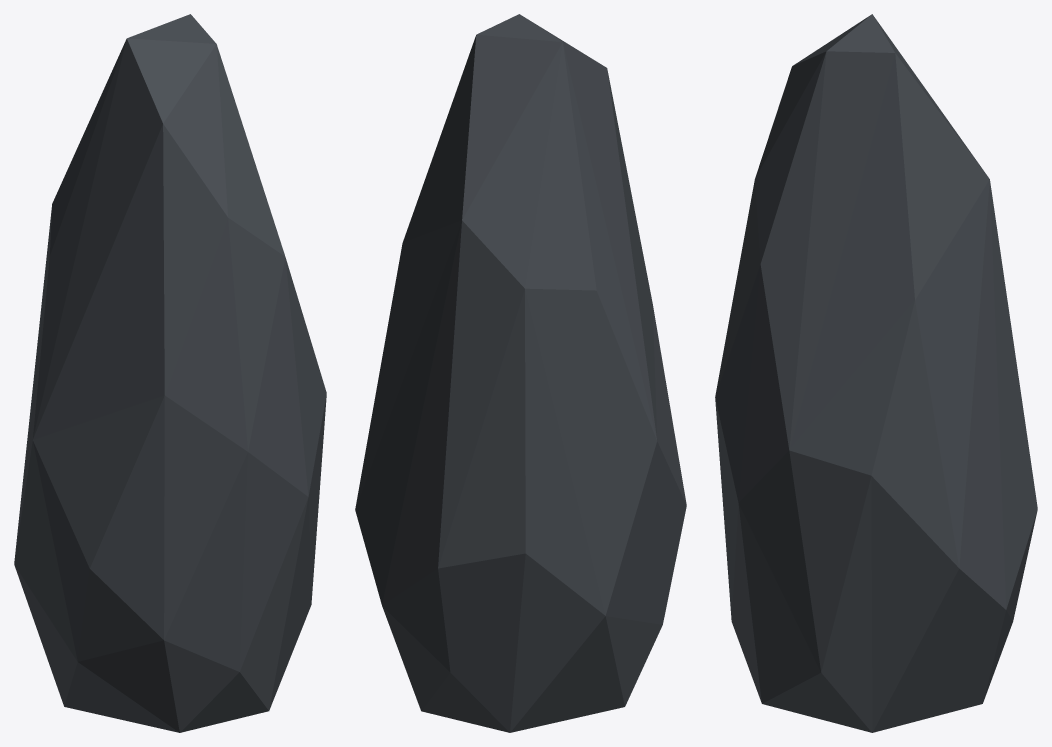
The model's file is AW_Rock03.fbx.
The picture shows the model from 3 angles, left to right: view 1: azimuth 30°, elevation 25°; view 2: azimuth 150°, elevation 25°; view 3: azimuth 270°, elevation 25°; orthographic projection.
Visible parts, largest first — view 1: AW_Rock03; view 2: AW_Rock03; view 3: AW_Rock03.
Part boxes in pixels (x1,y1,x2,y2): AW_Rock03: (14, 14, 326, 732); AW_Rock03: (355, 14, 686, 732); AW_Rock03: (715, 14, 1037, 732).
Size of the model in its own units: 58.47 by 134 by 60.33.
1 material, 1 textured.
